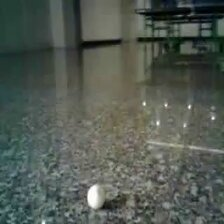w: (86, 184, 105, 209)
